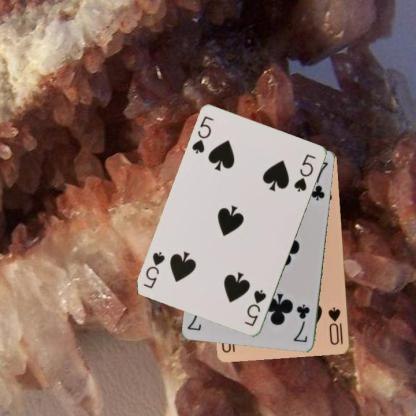10s: (326, 304, 344, 347)
5s: (189, 114, 215, 156), (242, 287, 268, 328)
7c: (292, 302, 312, 344)
